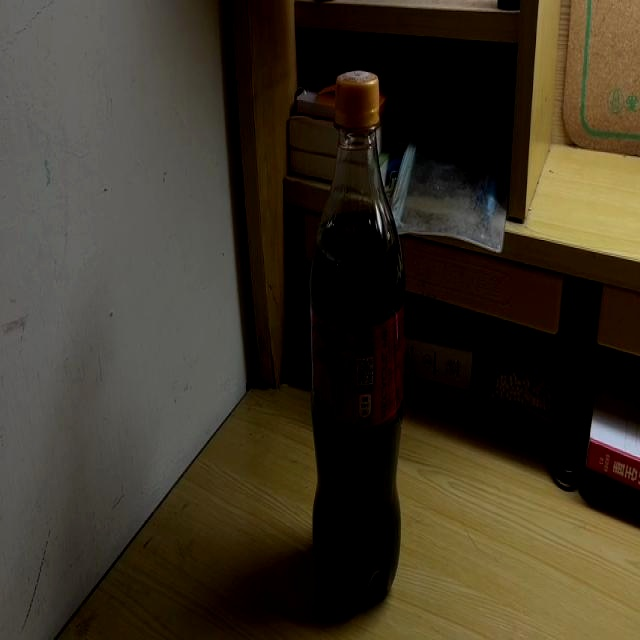Coca-Cola: (309, 68, 402, 616)
